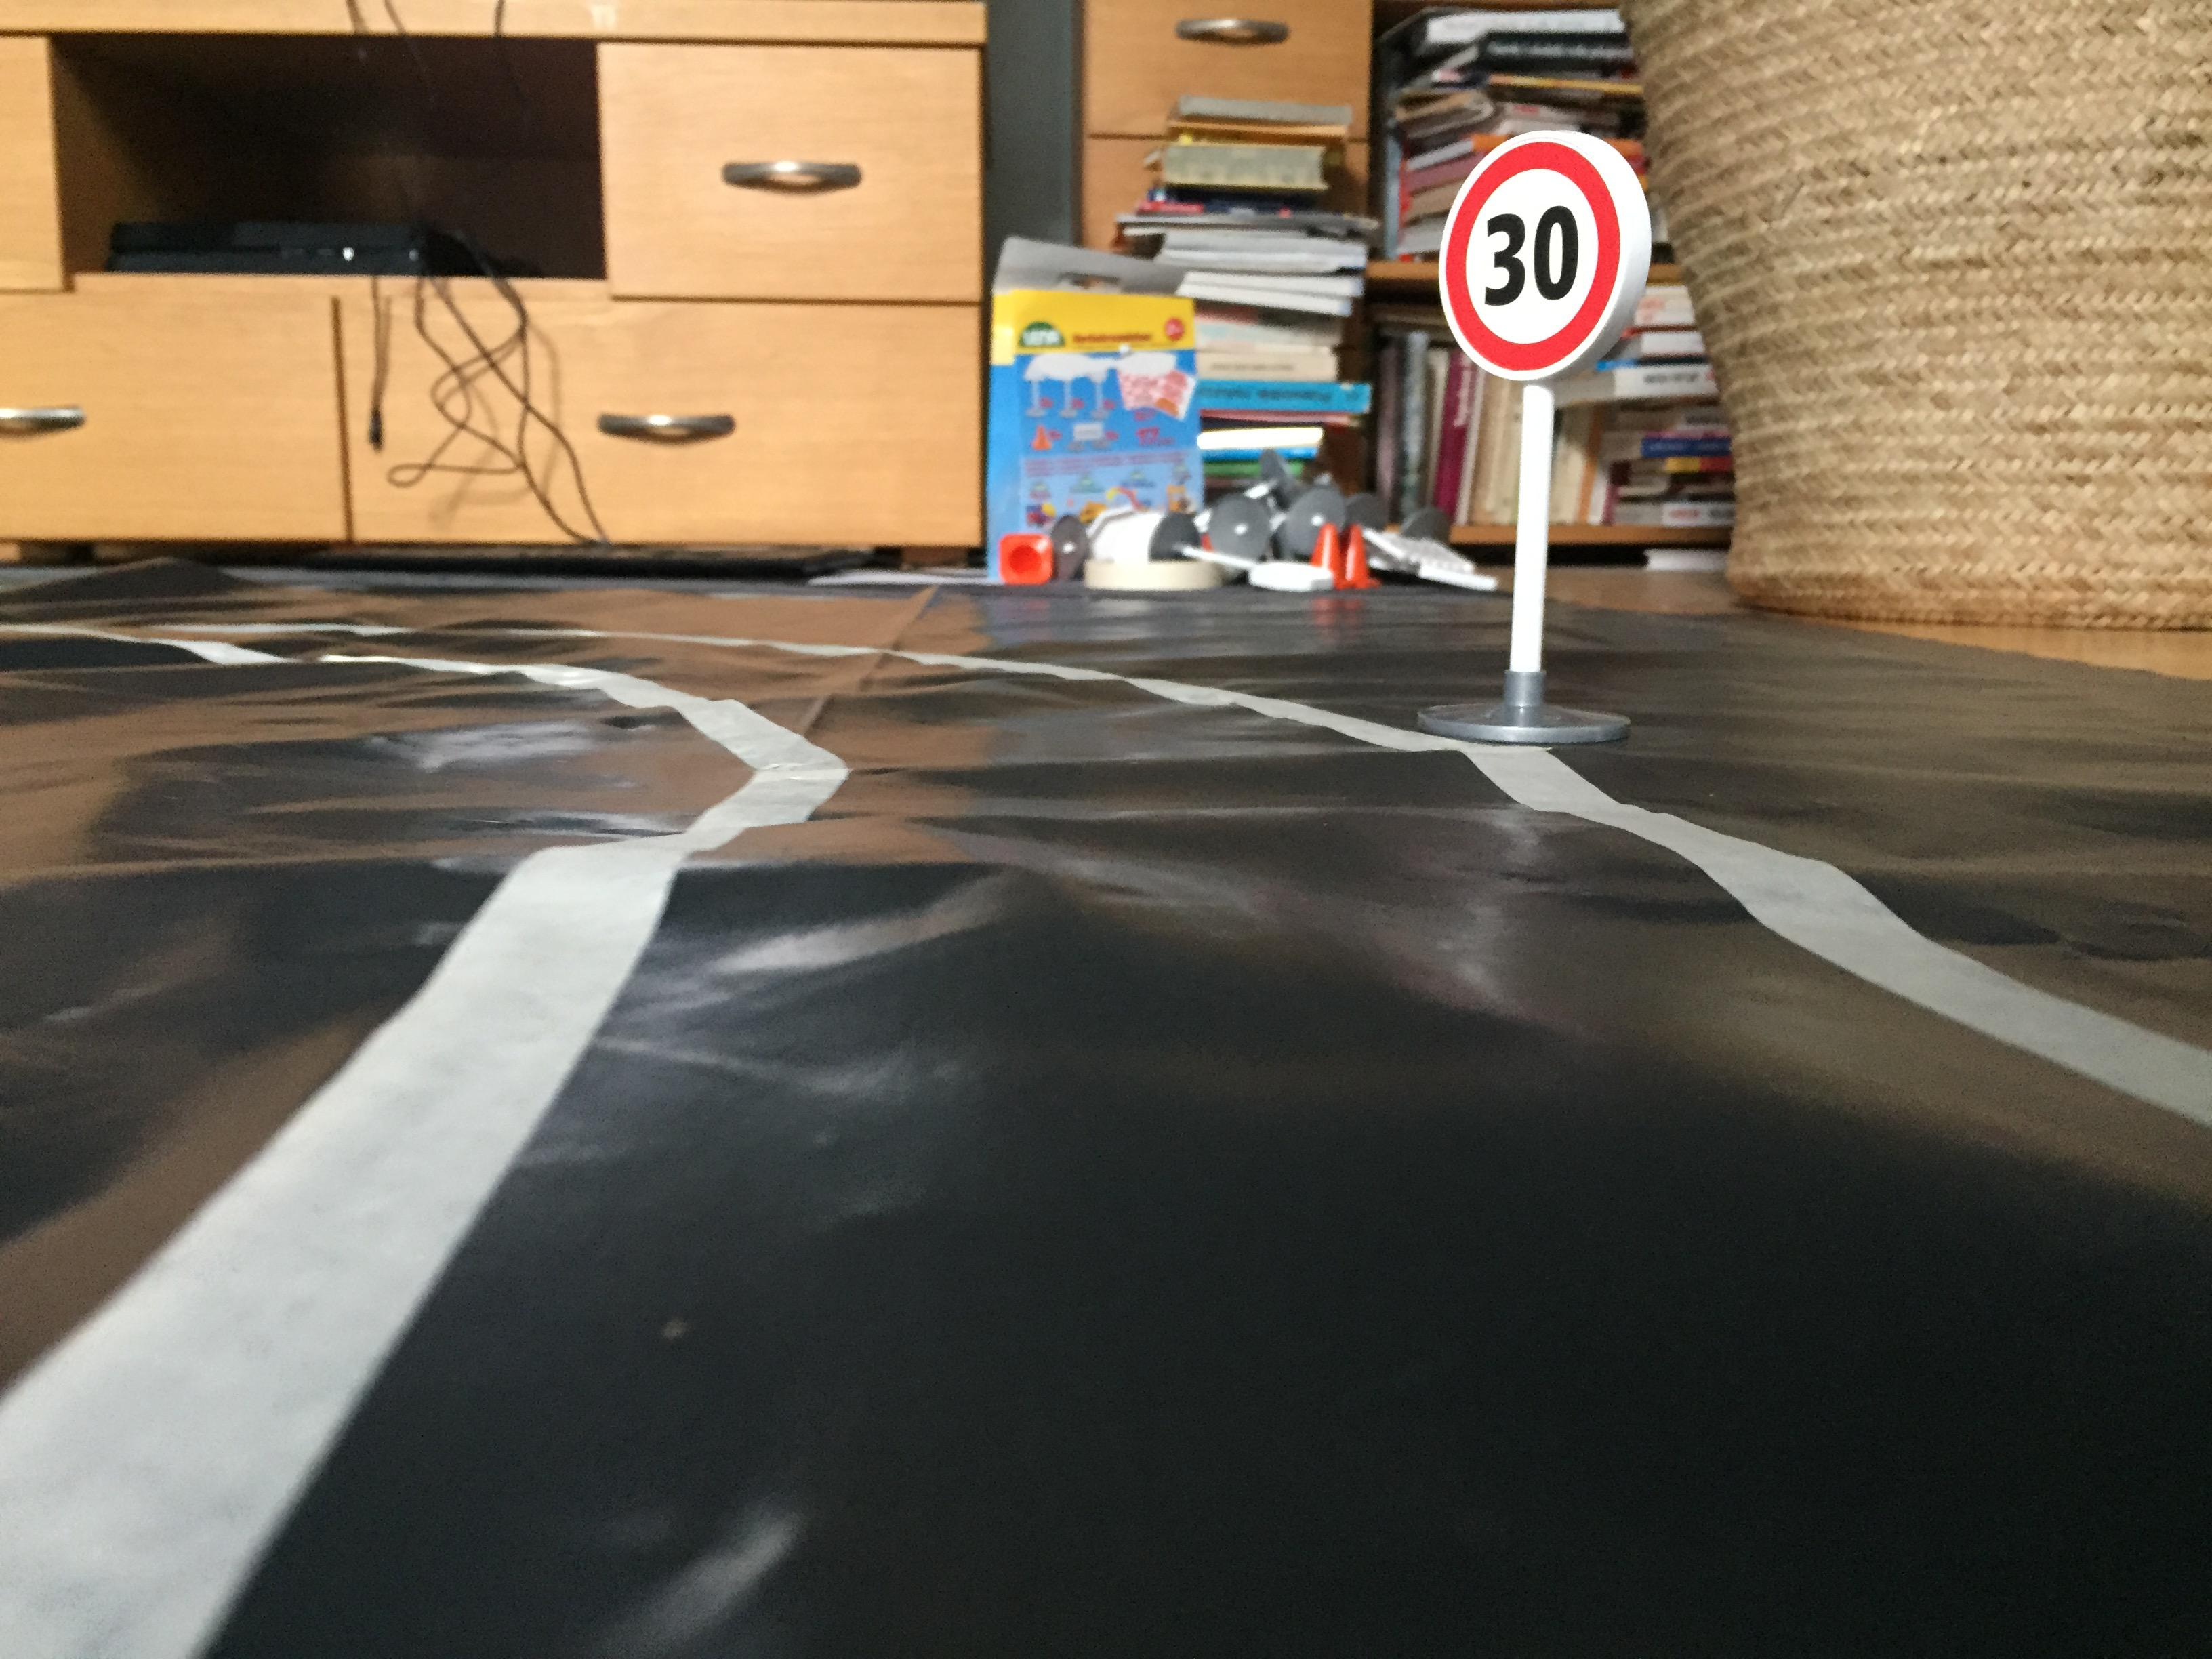speed: (1435, 124, 1672, 390)
